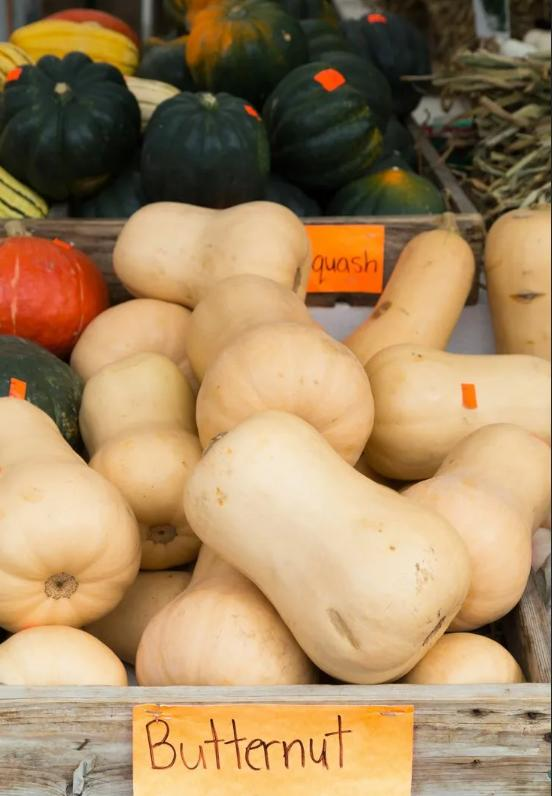butternut squash: (0, 220, 552, 694)
pumpkin: (0, 227, 113, 359)
